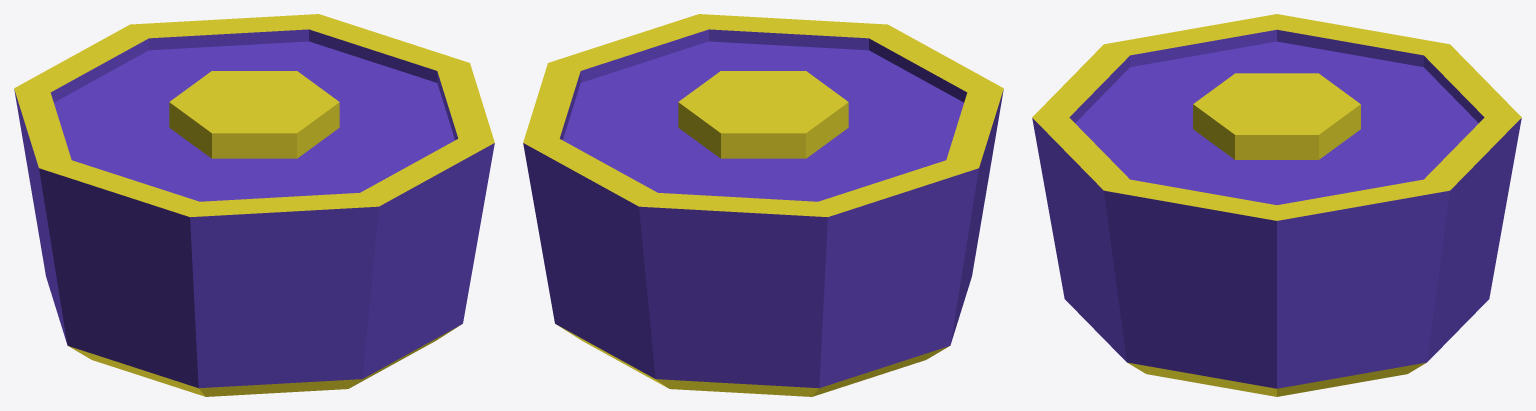
Rendered from body_2.glb.
The picture shows the model from 3 angles, left to right: view 1: azimuth 30°, elevation 25°; view 2: azimuth 150°, elevation 25°; view 3: azimuth 270°, elevation 25°; orthographic projection.
Parts seen in each view (by area): view 1: Body2; view 2: Body2; view 3: Body2.
Boxes of the visible parts, box(x1,y1,x2,y2) form: Body2: box(14, 14, 494, 396); Body2: box(523, 14, 1003, 396); Body2: box(1032, 14, 1521, 396).
Size of the model in its own units: 5.84 by 2.83 by 5.84.
